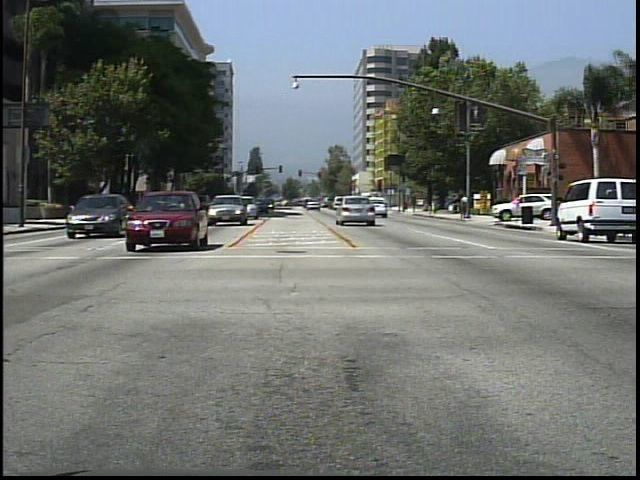person: (457, 189, 472, 222), (429, 190, 442, 217)
